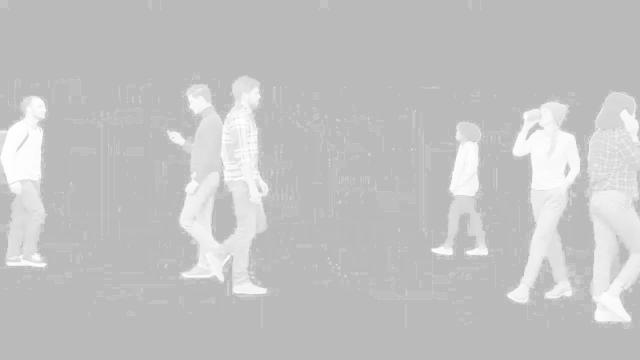berjalan: (164, 76, 232, 280), (511, 94, 577, 304), (586, 85, 640, 337), (208, 74, 266, 300), (4, 82, 52, 272), (436, 121, 499, 261)
